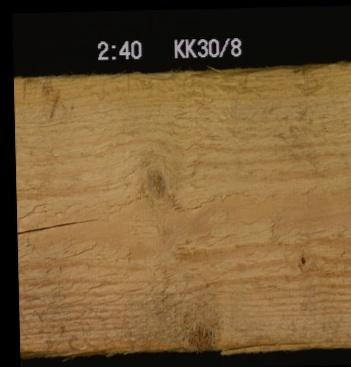edge_knot: (185, 310, 227, 354)
small_knot: (295, 251, 314, 265)
sound_knot: (139, 160, 182, 207)
split: (16, 215, 102, 236), (232, 334, 314, 348)
